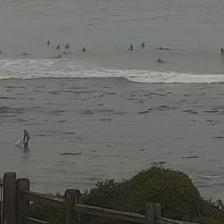surfer: (157, 46, 169, 50), (156, 58, 165, 63), (128, 44, 134, 50), (219, 48, 224, 54), (62, 51, 72, 54), (55, 55, 62, 59), (65, 44, 70, 49), (141, 42, 145, 48), (82, 47, 86, 53), (22, 52, 28, 56), (56, 44, 60, 49), (47, 41, 50, 45)
